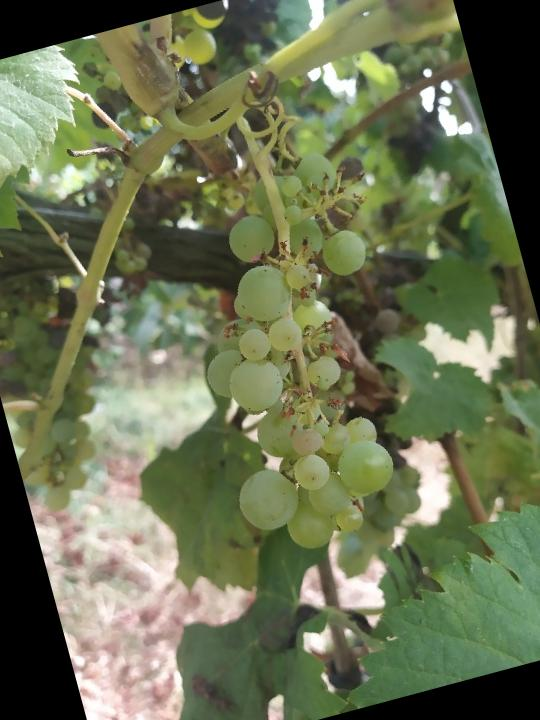grape: (153, 142, 442, 569)
